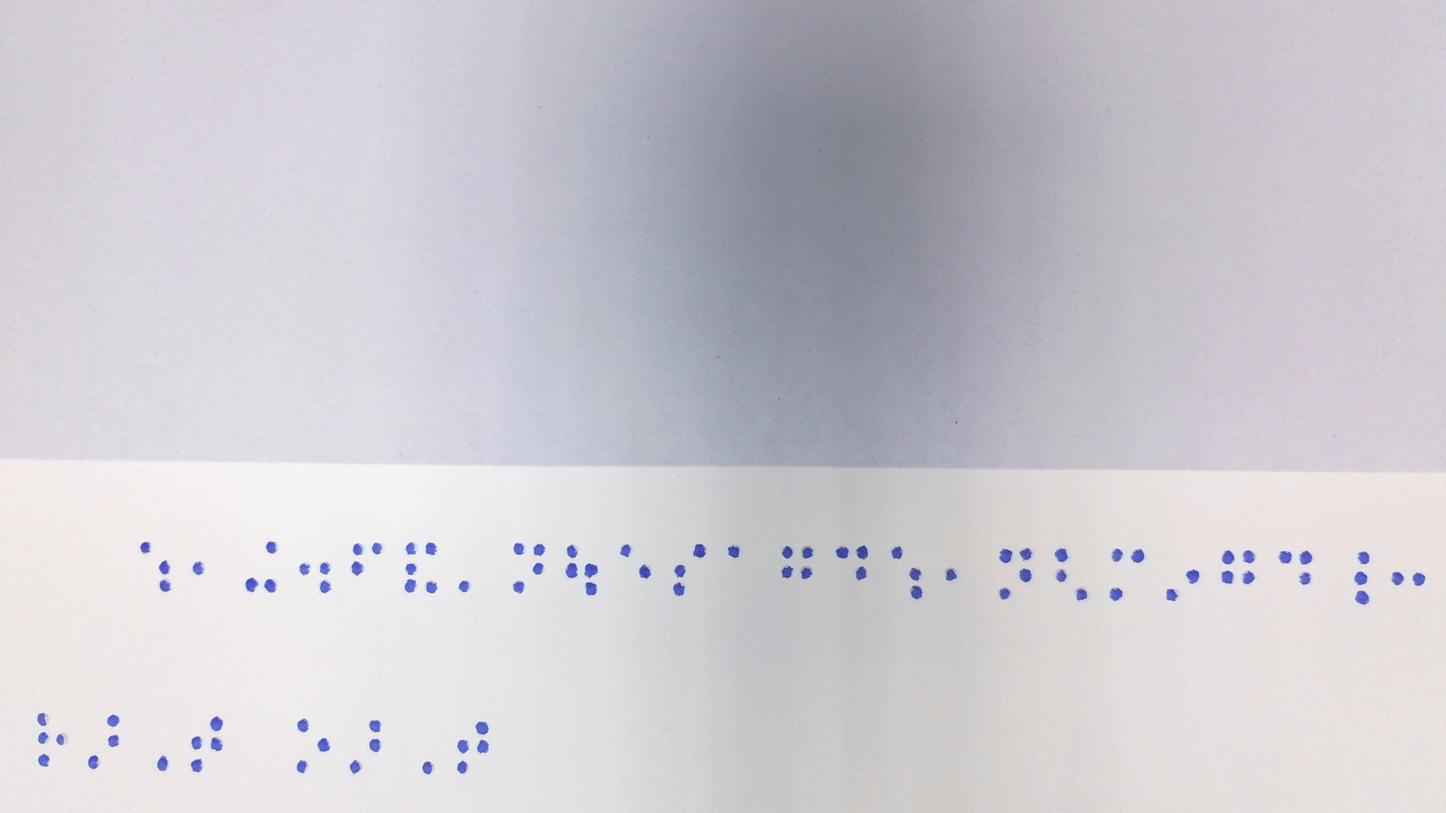braille_dot: (584, 562, 599, 579), (1109, 586, 1124, 603), (1355, 589, 1370, 606), (1130, 548, 1145, 564), (1185, 569, 1200, 585), (1241, 570, 1256, 586), (1353, 570, 1368, 586), (351, 560, 365, 577), (692, 544, 707, 559), (835, 545, 850, 560), (1278, 550, 1293, 565), (245, 577, 259, 593), (264, 578, 278, 594), (890, 545, 904, 561), (999, 548, 1013, 564), (1019, 568, 1033, 584), (1222, 550, 1236, 566), (1221, 569, 1235, 585), (1299, 550, 1313, 566), (210, 716, 224, 732), (317, 737, 331, 753), (475, 720, 489, 736), (566, 562, 579, 579), (855, 565, 868, 582), (191, 561, 205, 576), (726, 545, 741, 559), (1055, 548, 1069, 563), (1391, 571, 1405, 586), (1412, 572, 1426, 587), (158, 560, 171, 576), (404, 578, 417, 594), (856, 545, 869, 561), (910, 585, 923, 601), (349, 760, 362, 776), (457, 739, 470, 755), (157, 755, 169, 772), (800, 566, 814, 580), (801, 546, 815, 560), (1298, 572, 1312, 586), (319, 579, 332, 594), (585, 582, 598, 597), (639, 564, 652, 579), (781, 545, 794, 560), (1111, 548, 1124, 563), (1242, 550, 1255, 565), (87, 755, 100, 770), (210, 737, 223, 752), (476, 739, 489, 754), (159, 579, 172, 593), (265, 541, 278, 555), (532, 562, 545, 576), (533, 543, 546, 557), (619, 544, 632, 558), (781, 565, 794, 579), (909, 568, 922, 582), (945, 568, 958, 582), (998, 587, 1011, 601), (1020, 548, 1033, 562), (1075, 588, 1088, 602), (37, 754, 50, 768), (107, 714, 120, 728), (566, 544, 578, 559), (674, 582, 686, 597), (674, 564, 686, 579), (1358, 551, 1370, 566), (191, 736, 203, 751), (369, 738, 381, 753), (421, 761, 433, 776), (299, 562, 311, 576), (371, 542, 383, 556), (404, 562, 416, 576), (426, 542, 438, 556), (458, 580, 470, 594), (513, 542, 525, 556), (513, 580, 525, 594), (1056, 569, 1068, 583), (1166, 589, 1178, 603), (191, 759, 203, 773), (297, 719, 309, 733), (140, 540, 151, 555), (405, 541, 416, 556), (457, 760, 468, 775), (319, 562, 331, 575), (352, 543, 364, 556), (426, 581, 438, 594), (108, 735, 120, 748), (369, 720, 381, 733), (37, 732, 49, 744), (37, 713, 47, 727), (297, 760, 307, 774), (55, 733, 64, 746)
